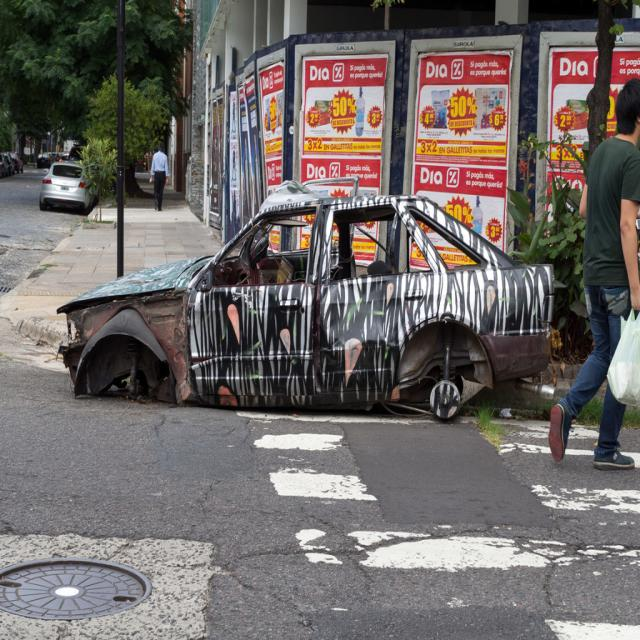car: (56, 178, 556, 422)
